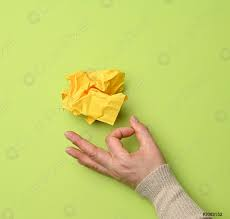crumpled paper: (61, 65, 132, 127)
